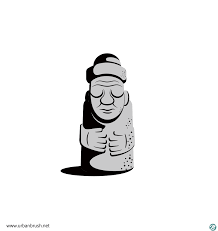Stone Statue: (54, 37, 141, 182)
